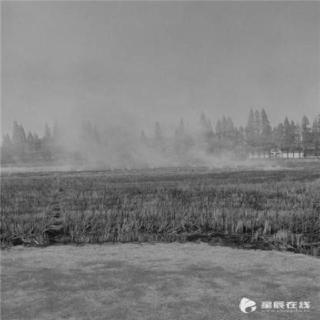Fire: (188, 156, 234, 173), (70, 160, 84, 172)
Smoke: (190, 121, 209, 148)
